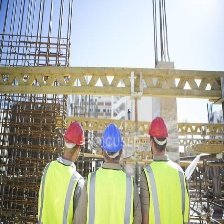helmet: (101, 126, 125, 154), (66, 119, 87, 147), (149, 115, 170, 139)
person: (84, 121, 140, 224), (141, 115, 190, 224), (40, 118, 85, 224)
vest: (87, 161, 136, 224), (139, 160, 191, 218), (42, 159, 84, 224)
